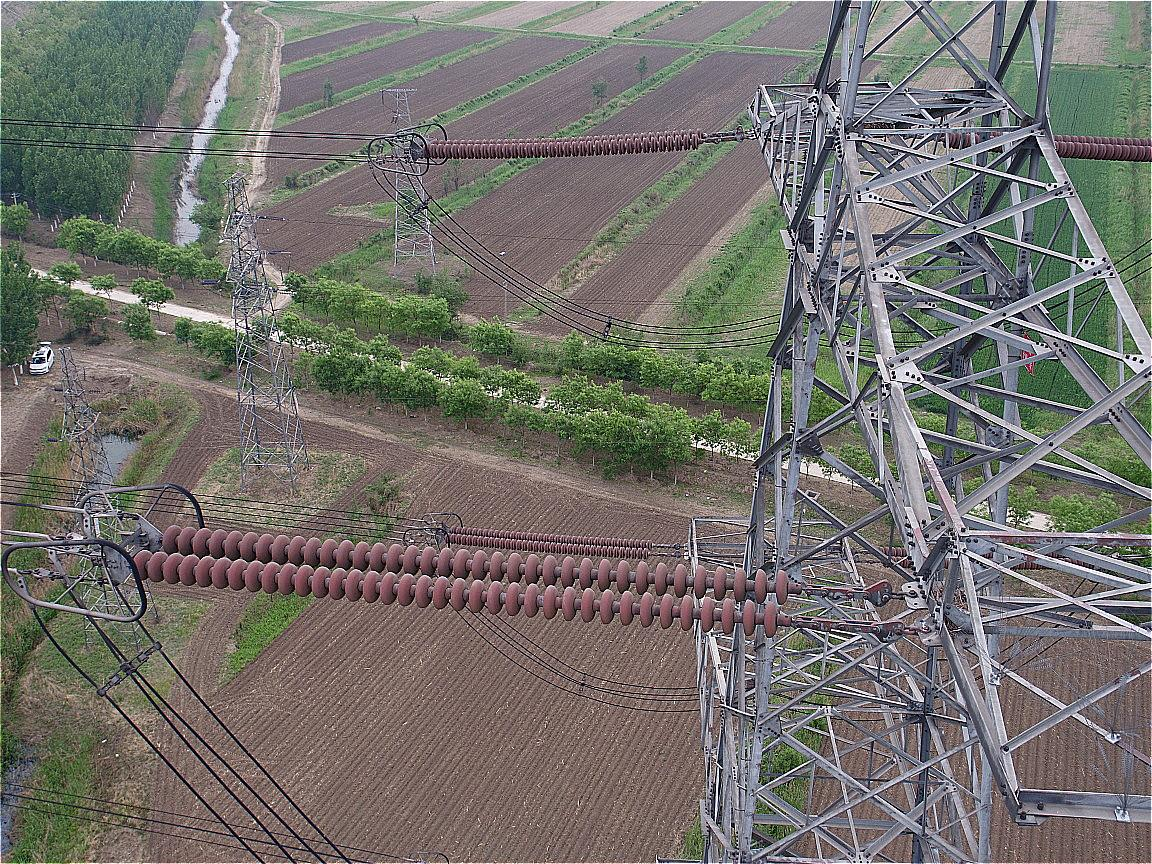insultor1: (135, 524, 787, 636)
insultor2: (425, 125, 703, 160), (449, 526, 655, 559), (1055, 133, 1151, 160)
